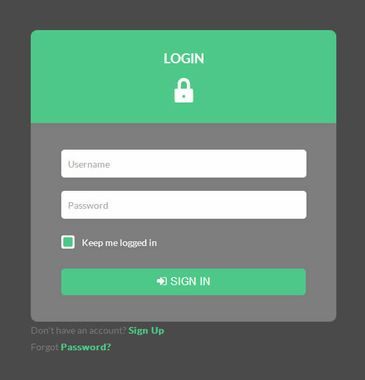_form_: (1, 1, 365, 380)
button: (59, 267, 306, 297)
checkbox: (60, 234, 78, 250)
checkbox_with_label: (58, 232, 157, 252)
field: (59, 189, 308, 222), (59, 148, 308, 179)
